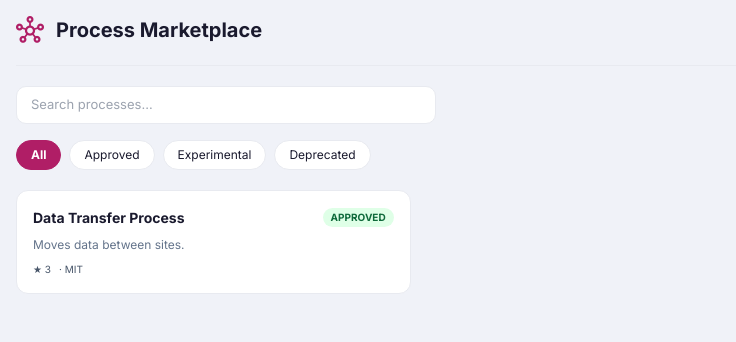
Scenario: MarketplacePage › shows the empty state when no entry matches the search
Type "no-such-process" into the field with placeholder "Search processes…". click: [226, 105]
box: [16,86,436,124]
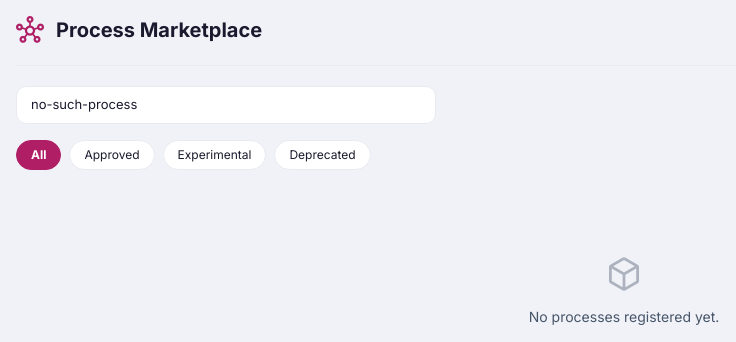
Expected: the text "No processes registered yet." is shown, [529,250,719,324]
Expected: the link "Data Transfer Process" is gone
